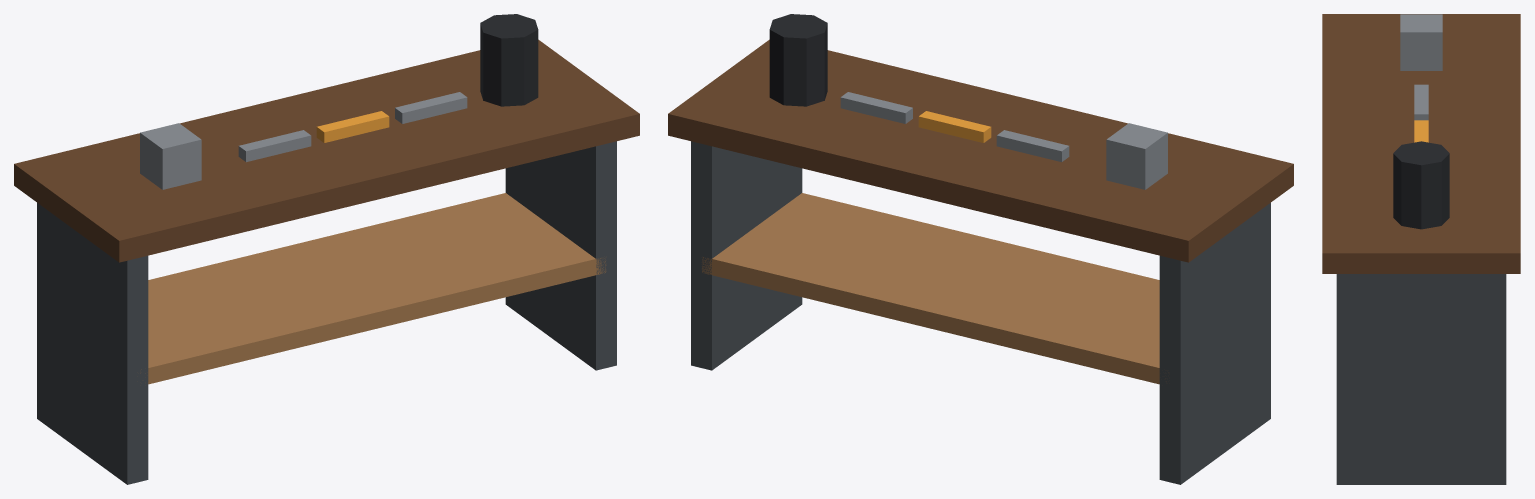
The model's file is interior.workbench.glb.
The picture shows the model from 3 angles, left to right: view 1: azimuth 30°, elevation 25°; view 2: azimuth 150°, elevation 25°; view 3: azimuth 270°, elevation 25°; orthographic projection. The views are drawn at different scales.
Visible parts, largest first — view 1: interior.workbench; view 2: interior.workbench; view 3: interior.workbench.
Boxes of the visible parts, box(x1,y1,x2,y2) form: interior.workbench: box(14, 14, 639, 484); interior.workbench: box(668, 14, 1293, 484); interior.workbench: box(1322, 14, 1520, 484).
Size of the model in its own units: 2 by 1.18 by 0.7.
